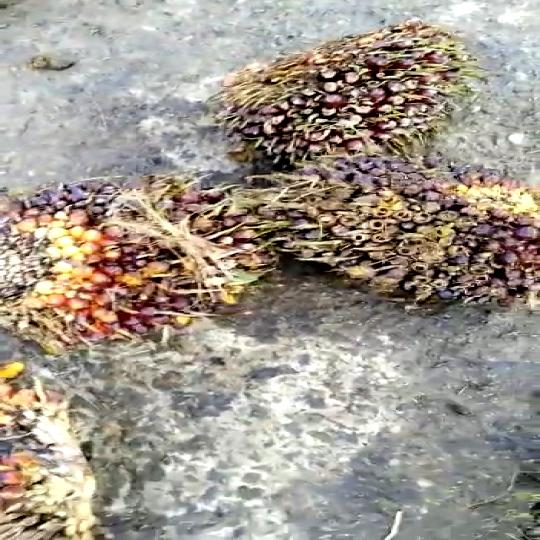kurang masak: (0, 168, 299, 351), (250, 146, 540, 326), (213, 29, 473, 186)
